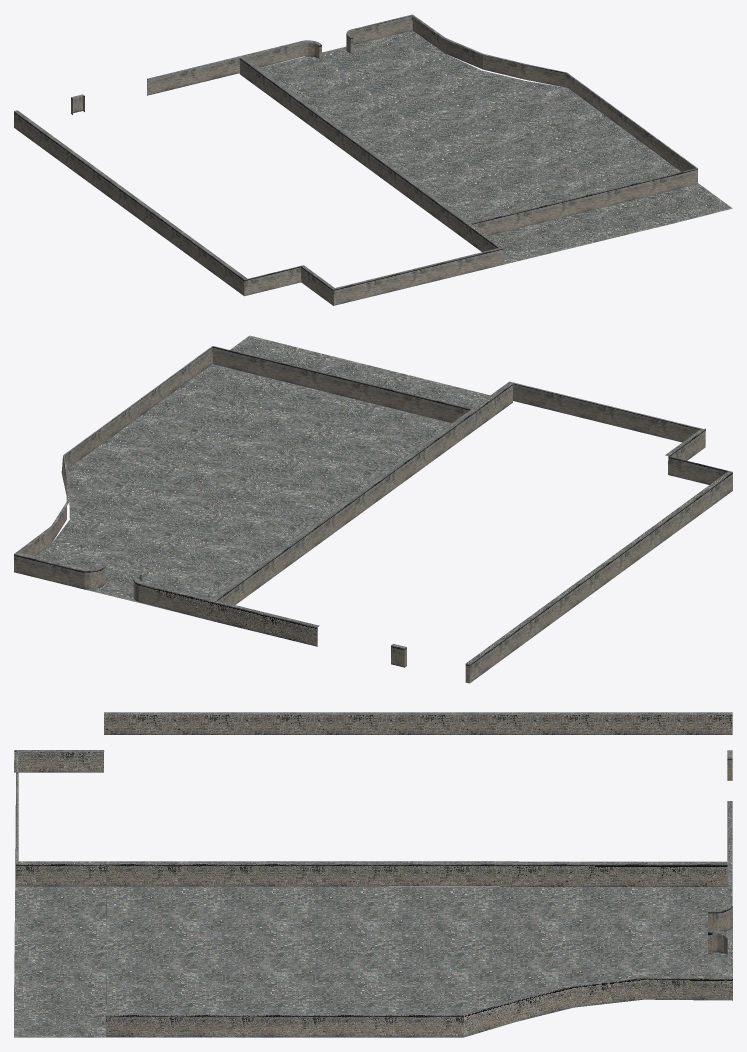
File: lodbikeschl03.obj
3 renders of one model, top to bottom at view 1: azimuth 30°, elevation 25°; view 2: azimuth 150°, elevation 25°; view 3: azimuth 270°, elevation 25°, orthographic. The views are drawn at different scales.
Visible parts, largest first — view 1: lodbikeschl03; view 2: lodbikeschl03; view 3: lodbikeschl03.
Part boxes in pixels (<box>): lodbikeschl03: <box>14,14,732,305</box>; lodbikeschl03: <box>14,335,732,683</box>; lodbikeschl03: <box>14,712,732,1037</box>.
Size of the model in its own units: 160 by 5.7 by 160.
Materials: 2 (2 with a texture image).
